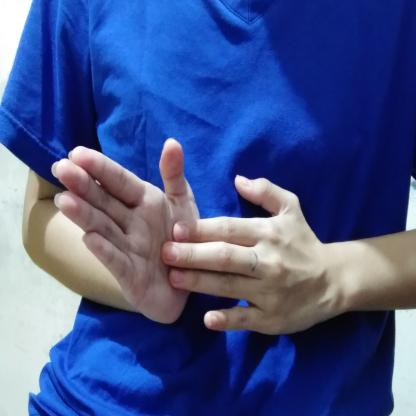mother: (49, 127, 374, 342)
